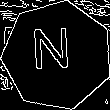N_S: (35, 30, 79, 82)
